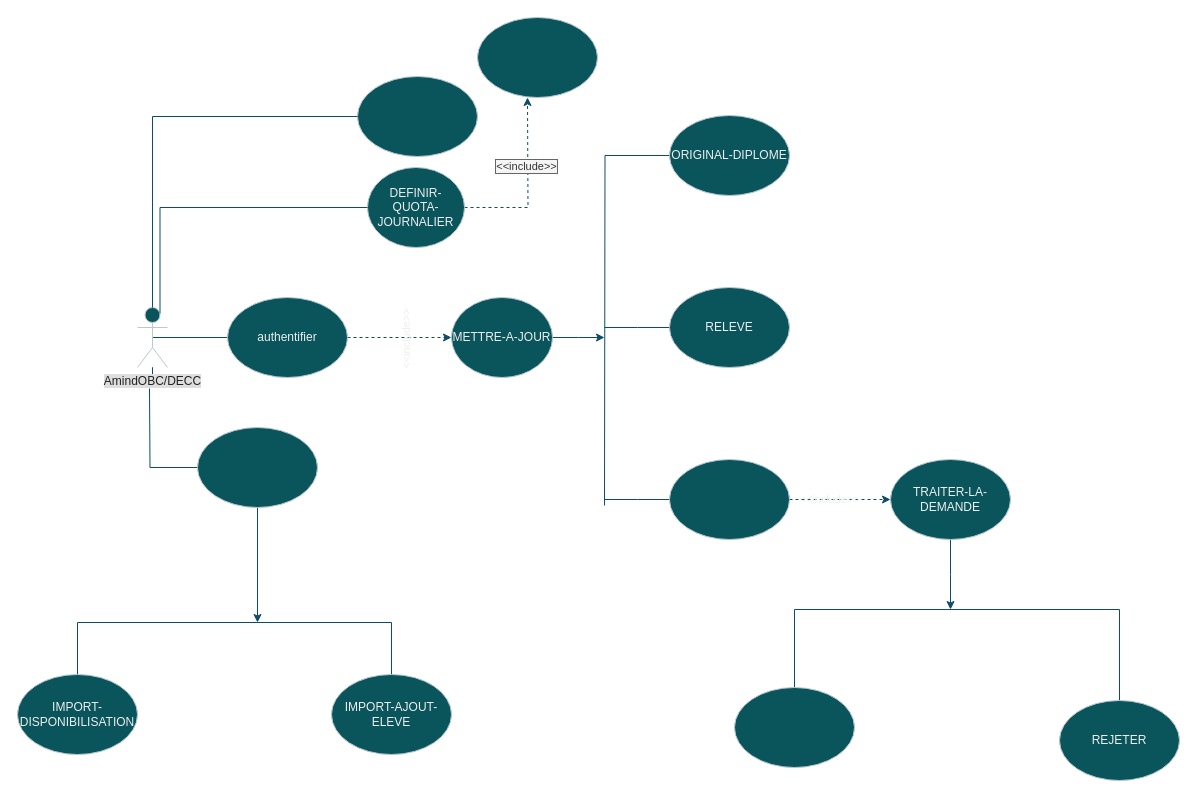
Some shapes in this 1197 by 798 pixel diagram are drawn without their labels. The centre of each missing label's shape, as x and y in pixels:
"CONSULTER-JOURNAL-AUDIT" goes at point 417,116.
"DEFINIR-JOUR-FERIES" goes at point 537,57.
"DUPLICATA" goes at point 729,499.
"EFFECTUER-IMPORT" goes at point 257,467.
"VALIDER" goes at point 794,727.
